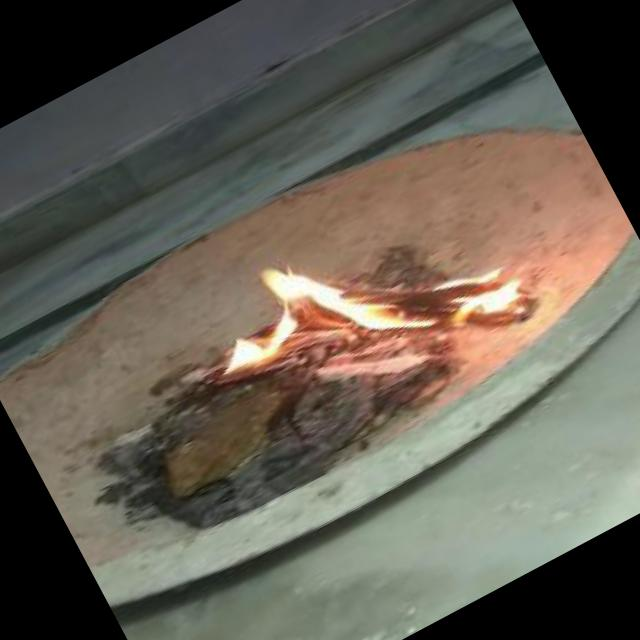fire: (182, 159, 543, 458)
